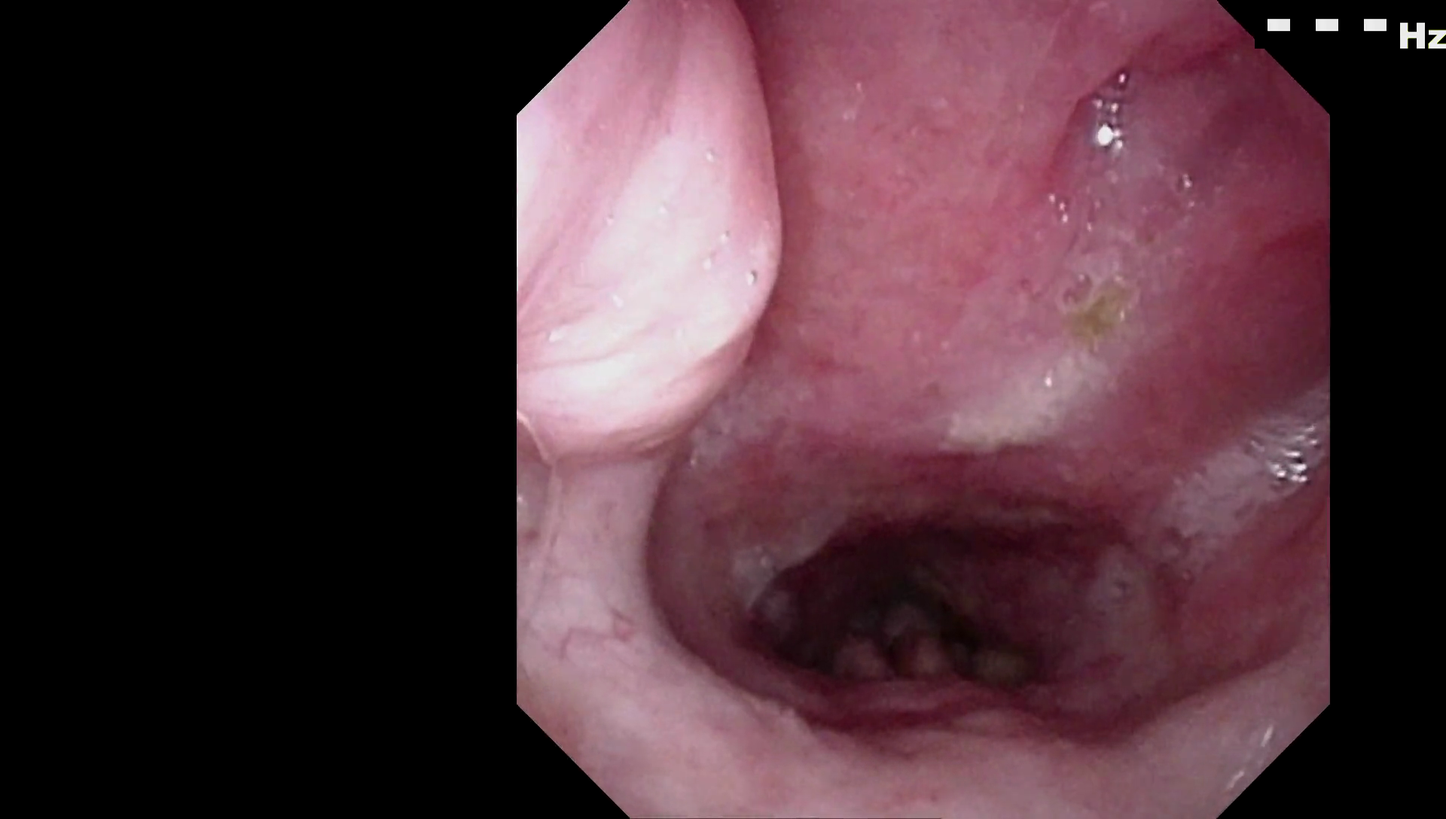close_wall: (526, 111, 822, 570)
next: (758, 513, 1056, 714)
